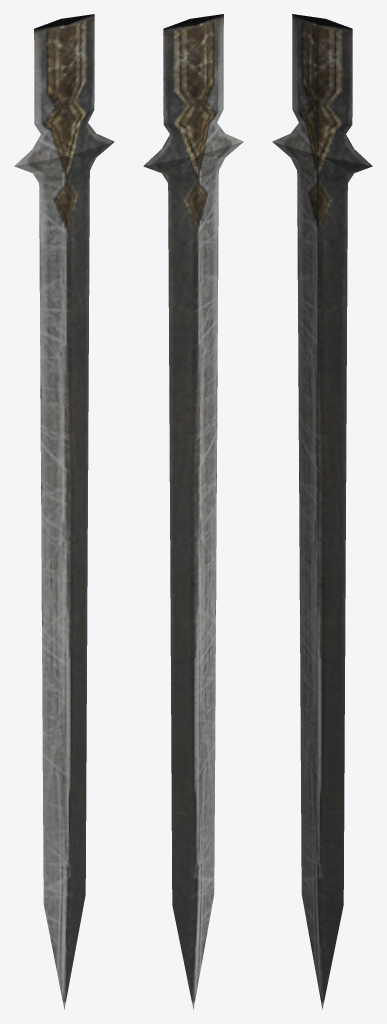
The model's file is Huantouzhiren_body.FBX.
3 views of the same model, side by side, from view 1: azimuth 30°, elevation 25°; view 2: azimuth 210°, elevation 25°; view 3: azimuth 330°, elevation 25° (orthographic).
Visible parts, largest first — view 1: Huantouzhiren_body; view 2: Huantouzhiren_body; view 3: Huantouzhiren_body.
Part boxes in pixels (left/top/right/bottom): Huantouzhiren_body: left=14, top=14, right=114, bottom=1009; Huantouzhiren_body: left=143, top=14, right=243, bottom=1009; Huantouzhiren_body: left=272, top=14, right=372, bottom=1009.
Bounding box in the file's own units: 12.84 × 120 × 1.71.
1 material, 1 textured.
